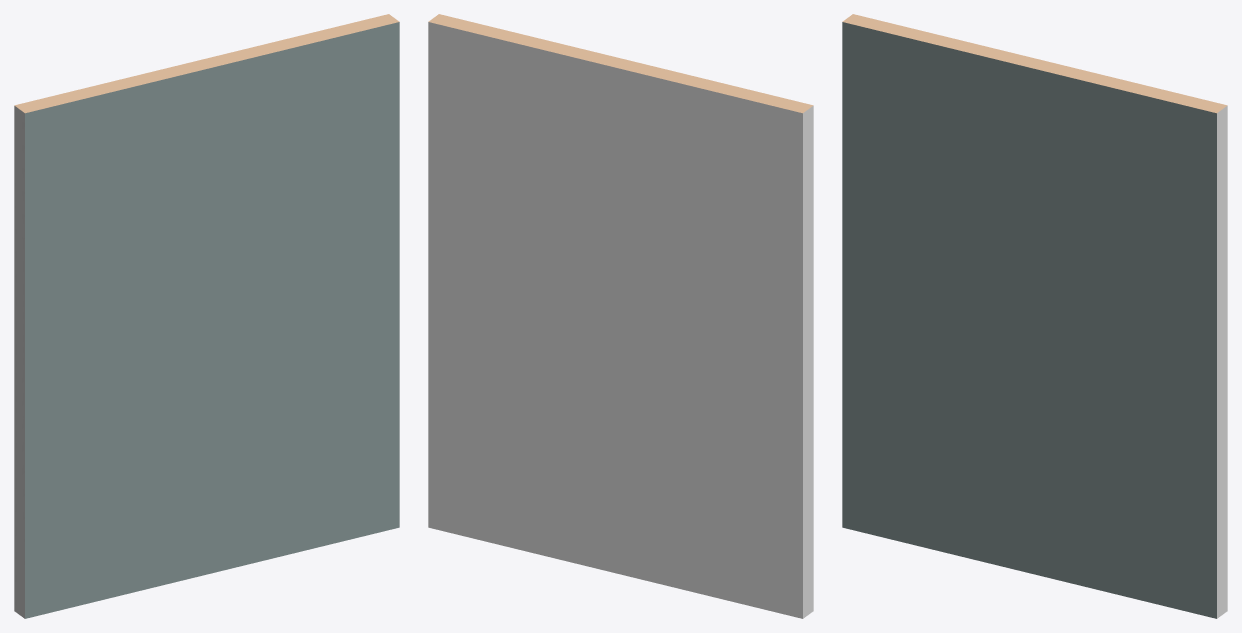
The model's file is wall.glb.
3 renders of one model, left to right at view 1: azimuth 30°, elevation 25°; view 2: azimuth 150°, elevation 25°; view 3: azimuth 330°, elevation 25°, orthographic.
Visible parts, largest first — view 1: wall; view 2: wall; view 3: wall.
Part boxes in pixels (<box>): wall: <box>14,14,399,618</box>; wall: <box>428,14,813,618</box>; wall: <box>842,14,1227,618</box>.
Size of the model in its own units: 1 by 1.29 by 0.05.
